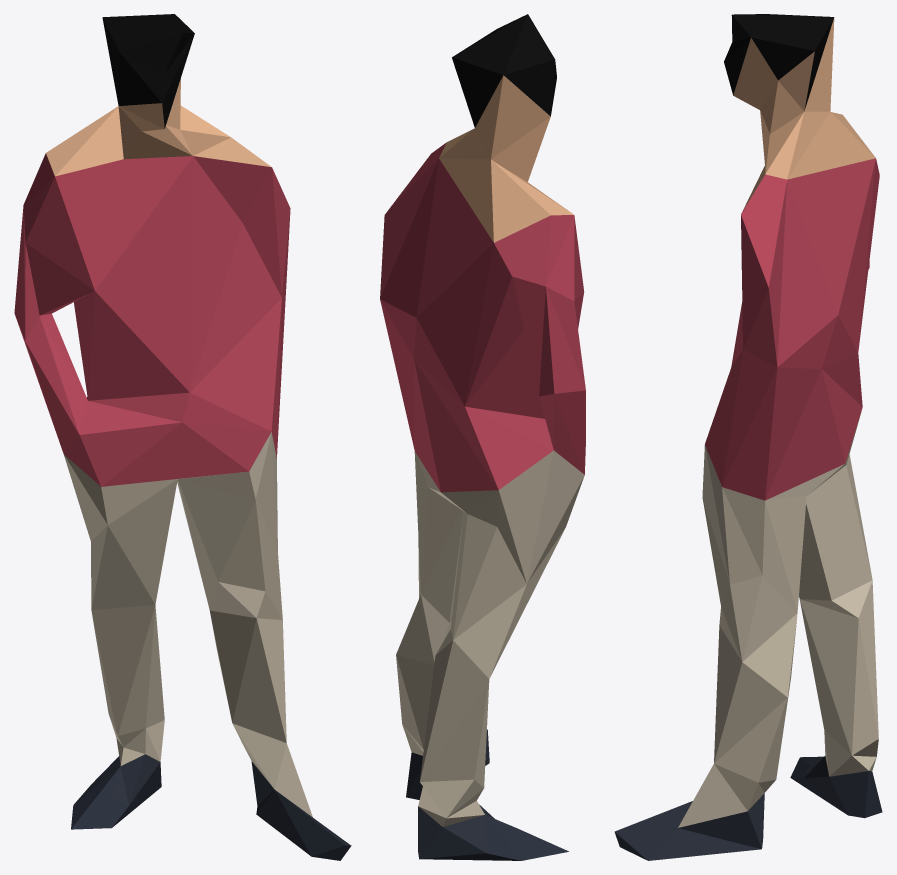
File: walker-33.glb
3 views of the same model, side by side, from view 1: azimuth 30°, elevation 25°; view 2: azimuth 150°, elevation 25°; view 3: azimuth 270°, elevation 25° (orthographic). The views are drawn at different scales.
Parts seen in each view (by area): view 1: Man10; view 2: Man10; view 3: Man10.
Part boxes in pixels (x1,y1,x2,y2): Man10: [14, 14, 351, 860]; Man10: [380, 14, 585, 860]; Man10: [614, 14, 882, 860].
Bounding box in the file's own units: 0.455 × 1.5 × 0.464.
